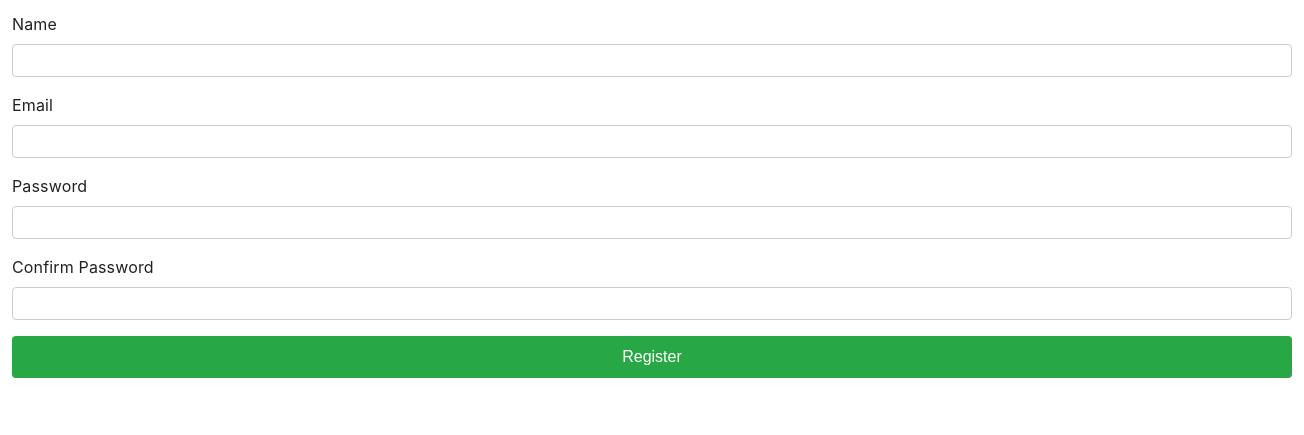
Test: RegisterForm › should display error message on registration failure
Type "Test User" into the field labelled "Name".
click(652, 60); type("Test User")  # box [12,44,1292,77]
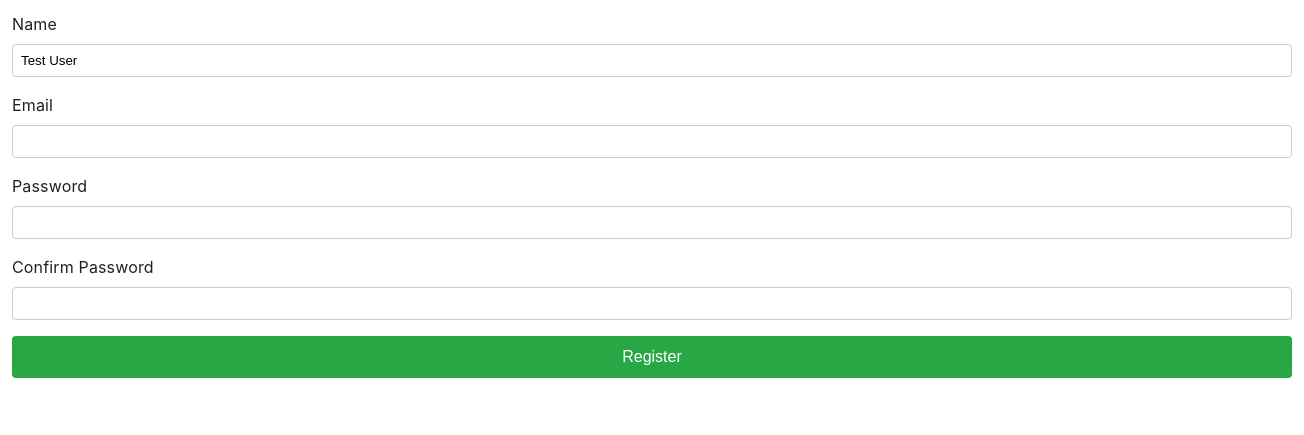
Type "existing@example.com" into the field labelled "Email".
click(652, 142); type("existing@example.com")  # box [12,125,1292,158]
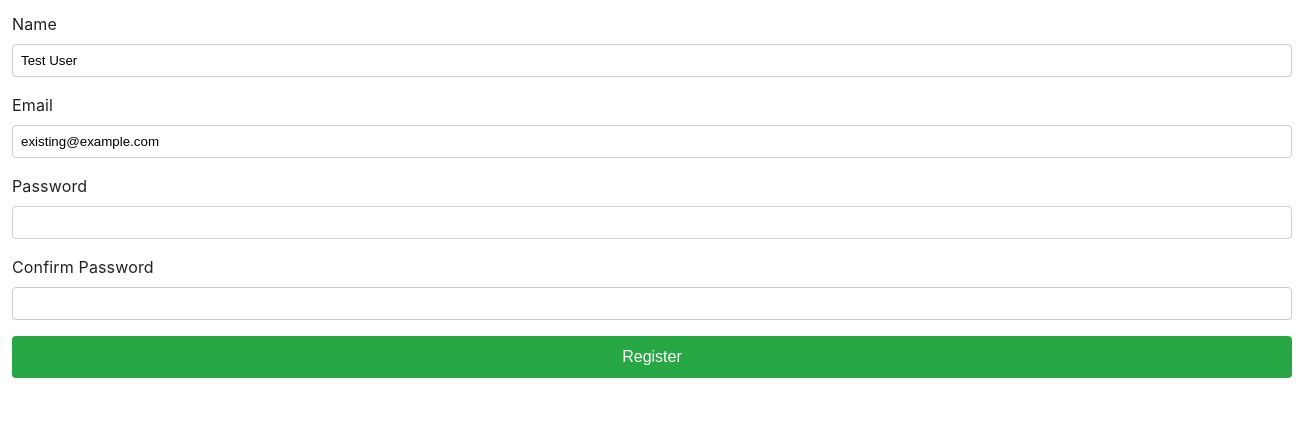
Type "password123" into the password field labelled "Password".
click(652, 222); type("password123")  # box [12,206,1292,239]
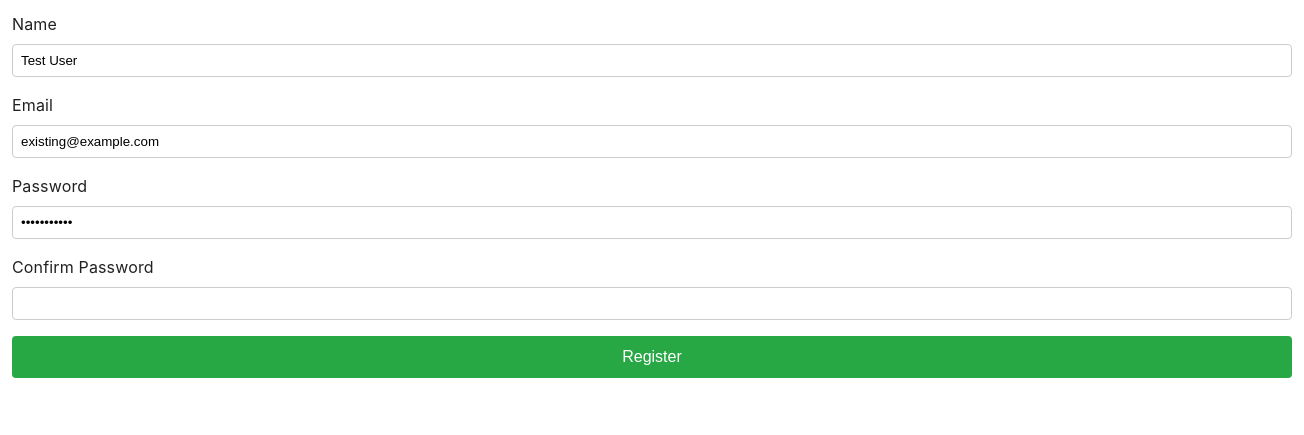
Type "password123" into the password field labelled "Confirm Password".
click(652, 304); type("password123")  # box [12,287,1292,320]
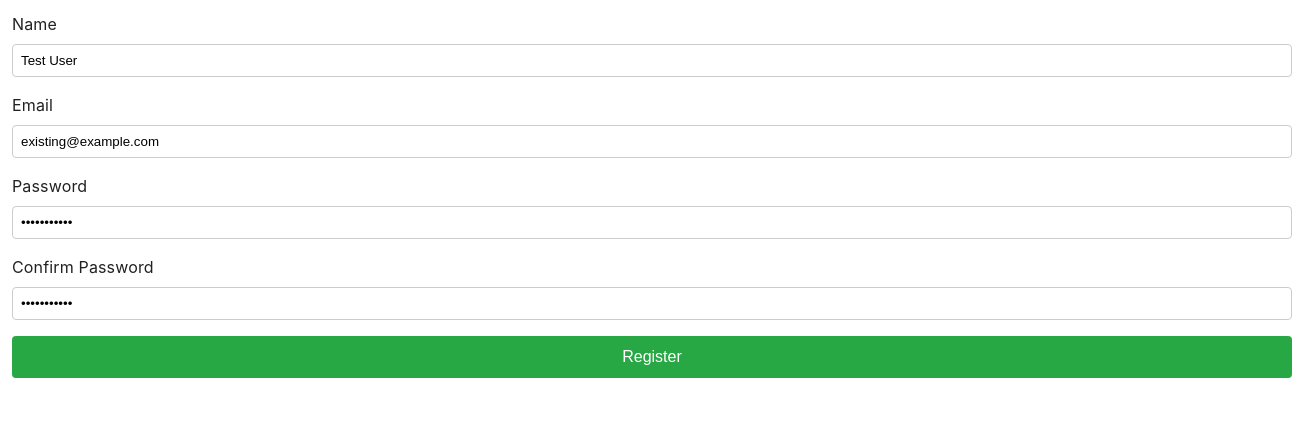
Click the button "Register".
click(652, 357)  # box [12,336,1292,378]
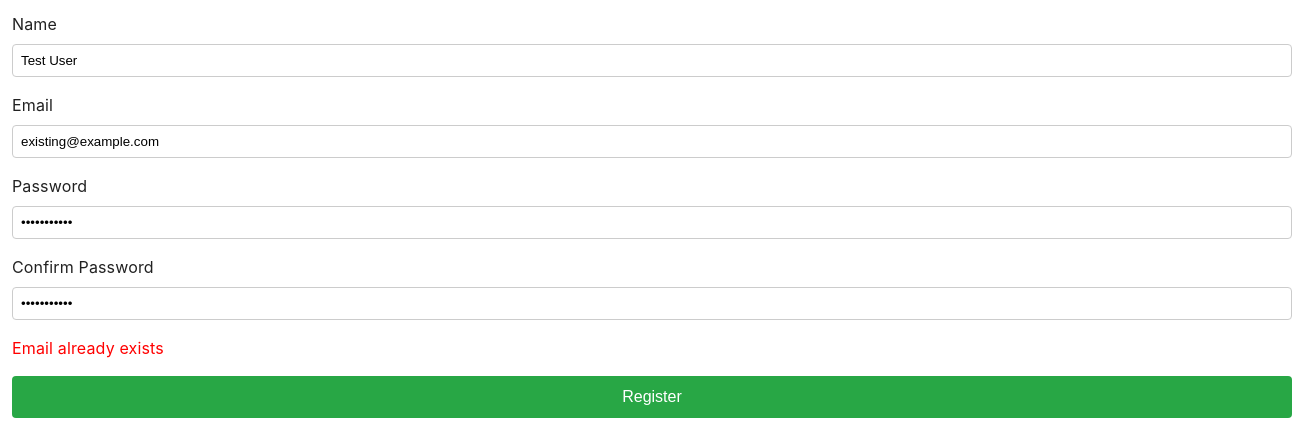
Expected: the text "Email already exists" is shown, [12,338,164,358]
